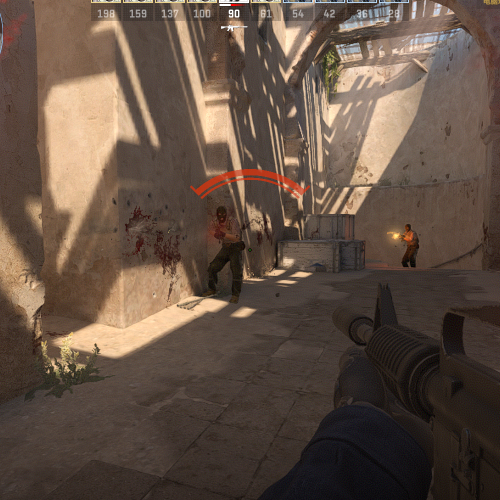t_body: (205, 207, 244, 306), (399, 221, 419, 268)
t_head: (215, 207, 227, 223), (405, 222, 412, 233)
